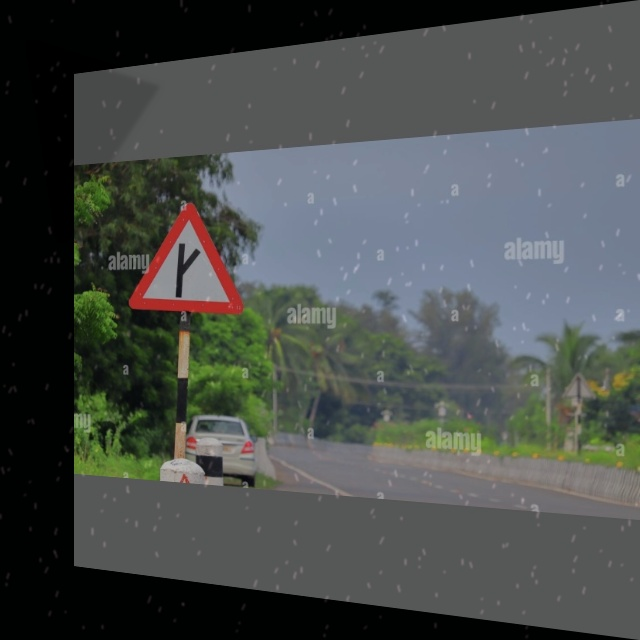Y_Intersection: (131, 195, 239, 316)
